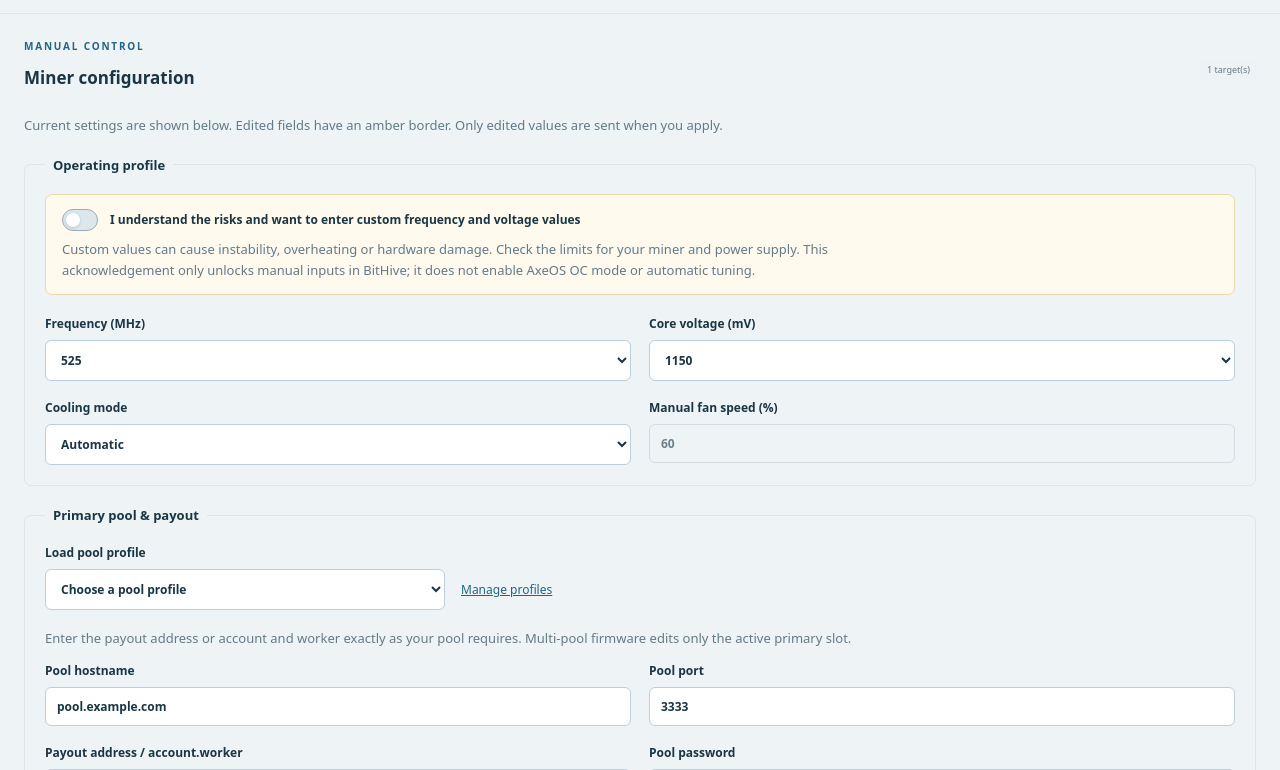
fleet interface › saves only operating fields and shows profile request errors
Select "500" in the dropdown labelled "Frequency (MHz)": (338, 361) [45, 340, 631, 381]
(page scrolled)
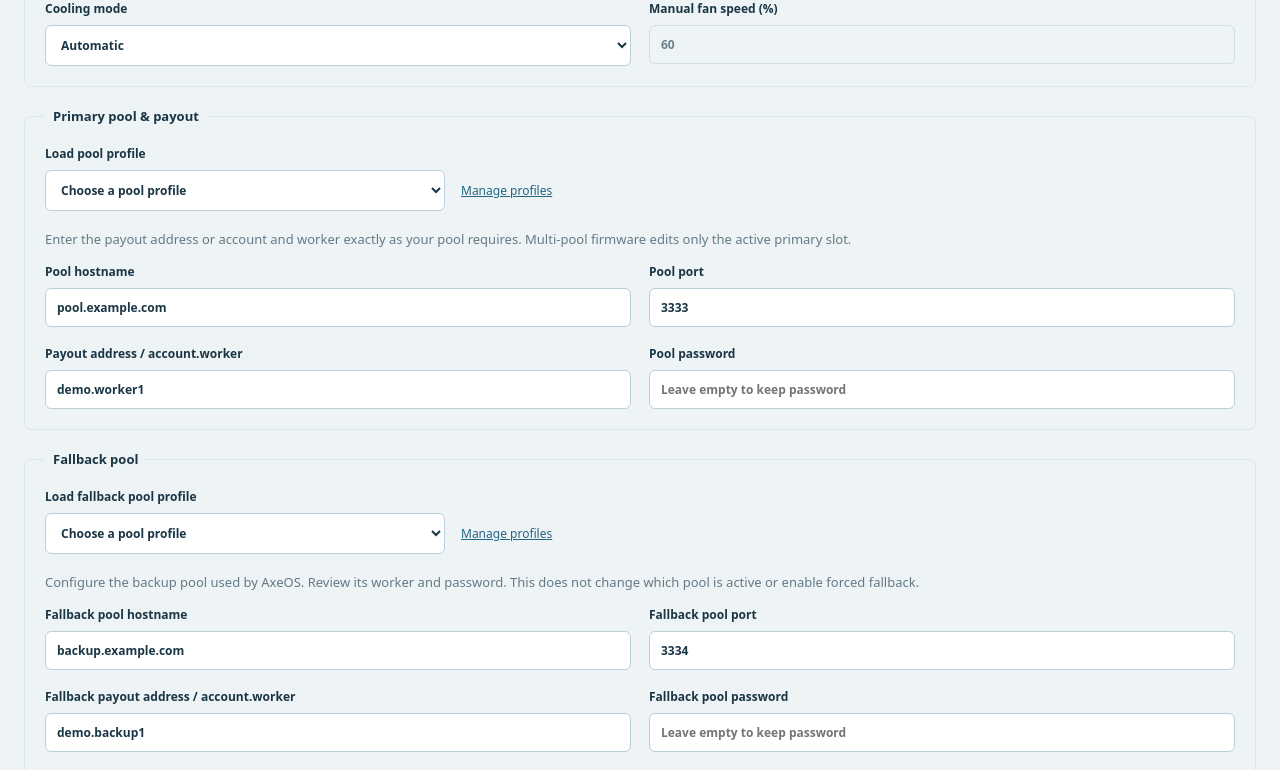
In the password field labelled "Pool password": (942, 390) [649, 370, 1235, 409], type "never-save-this"
(page scrolled)
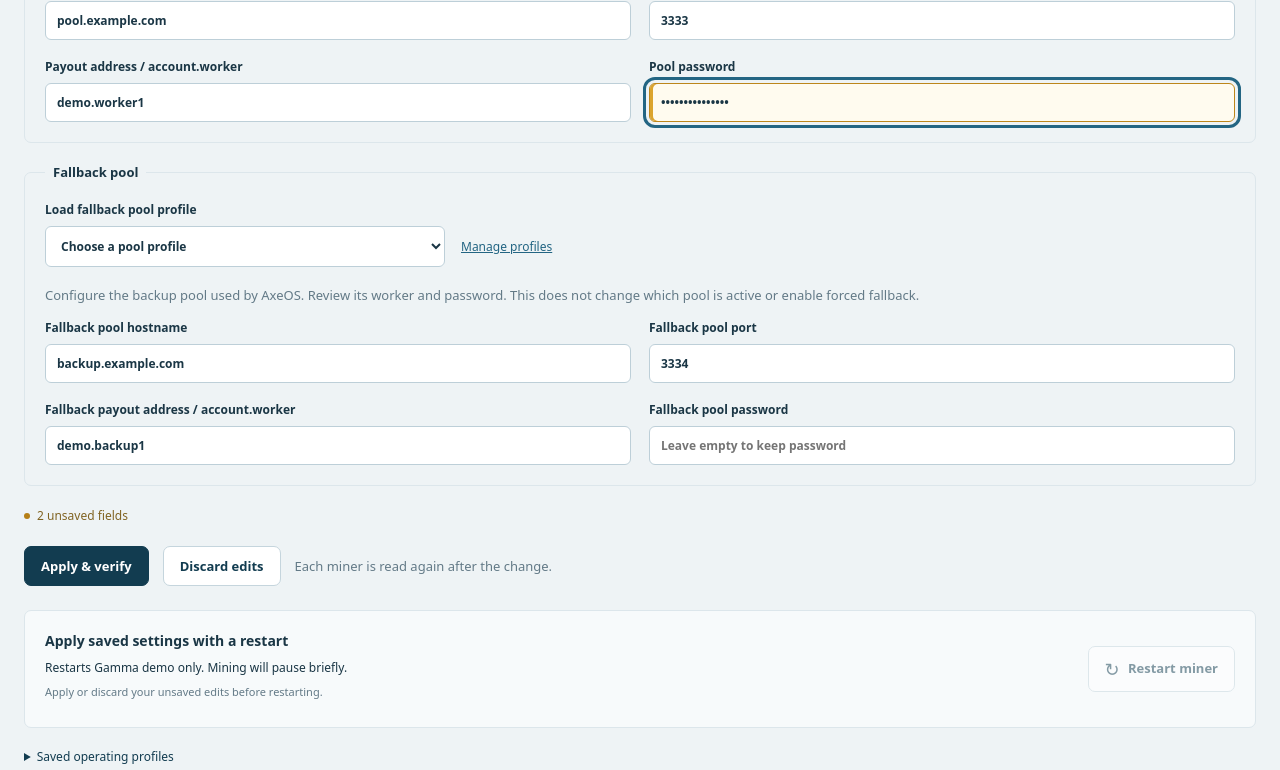
Click the heading "Saved operating profiles": (105, 756) [37, 748, 174, 765]
(page scrolled)
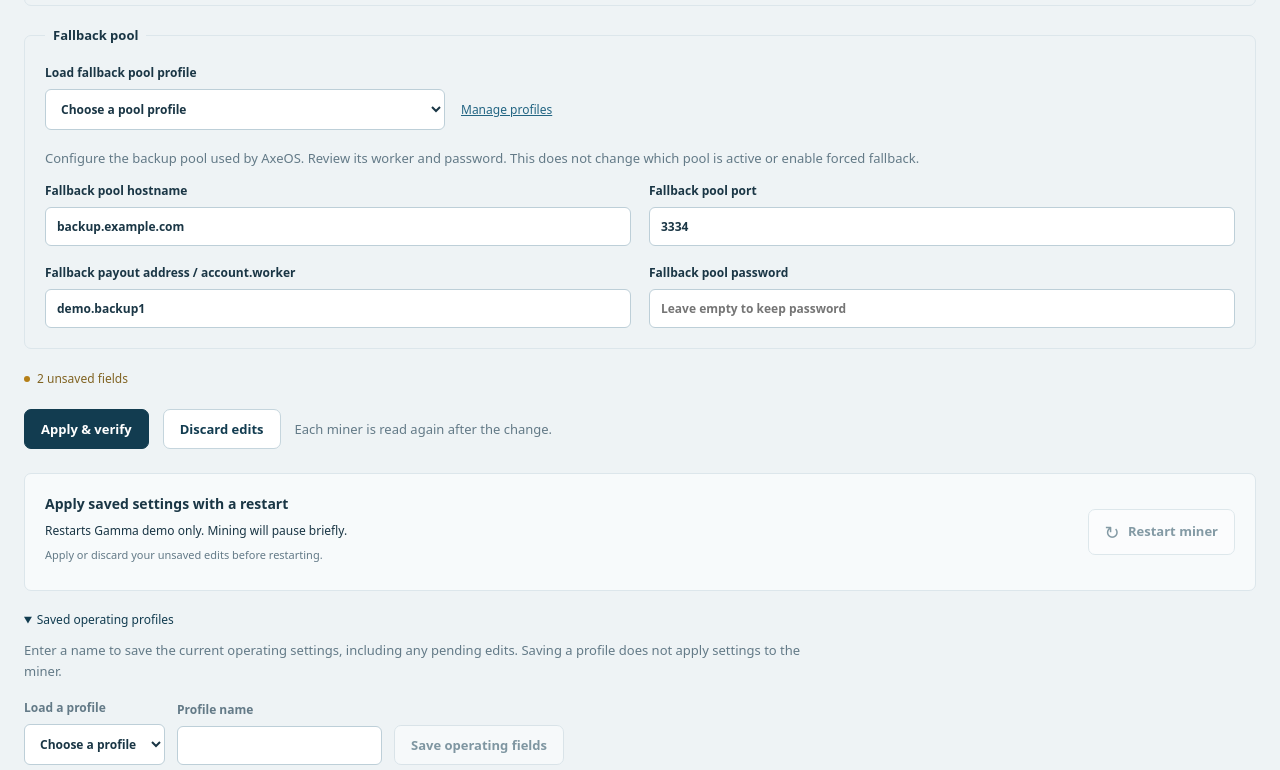
In the field labelled "Profile name": (280, 746) [177, 726, 382, 765], type "Quiet"
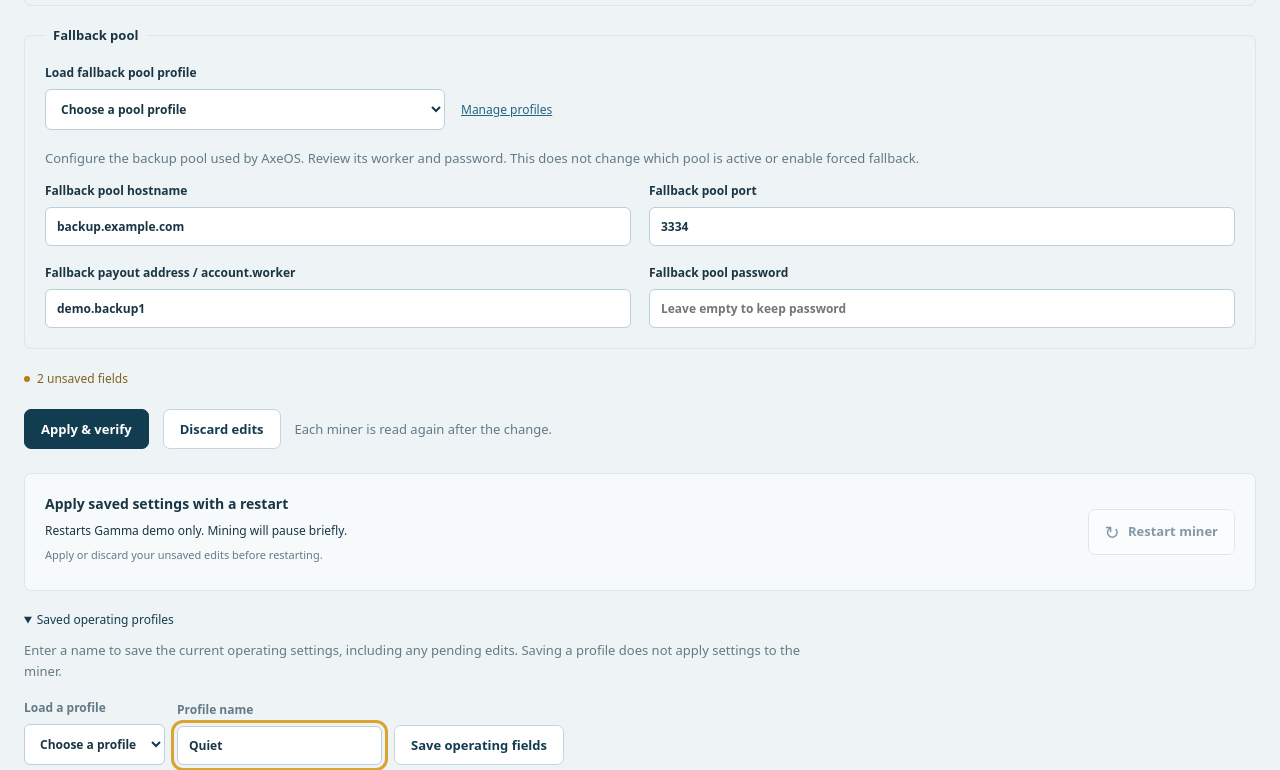
Click the button "Save operating fields": (479, 745) [394, 725, 564, 765]
(page scrolled)
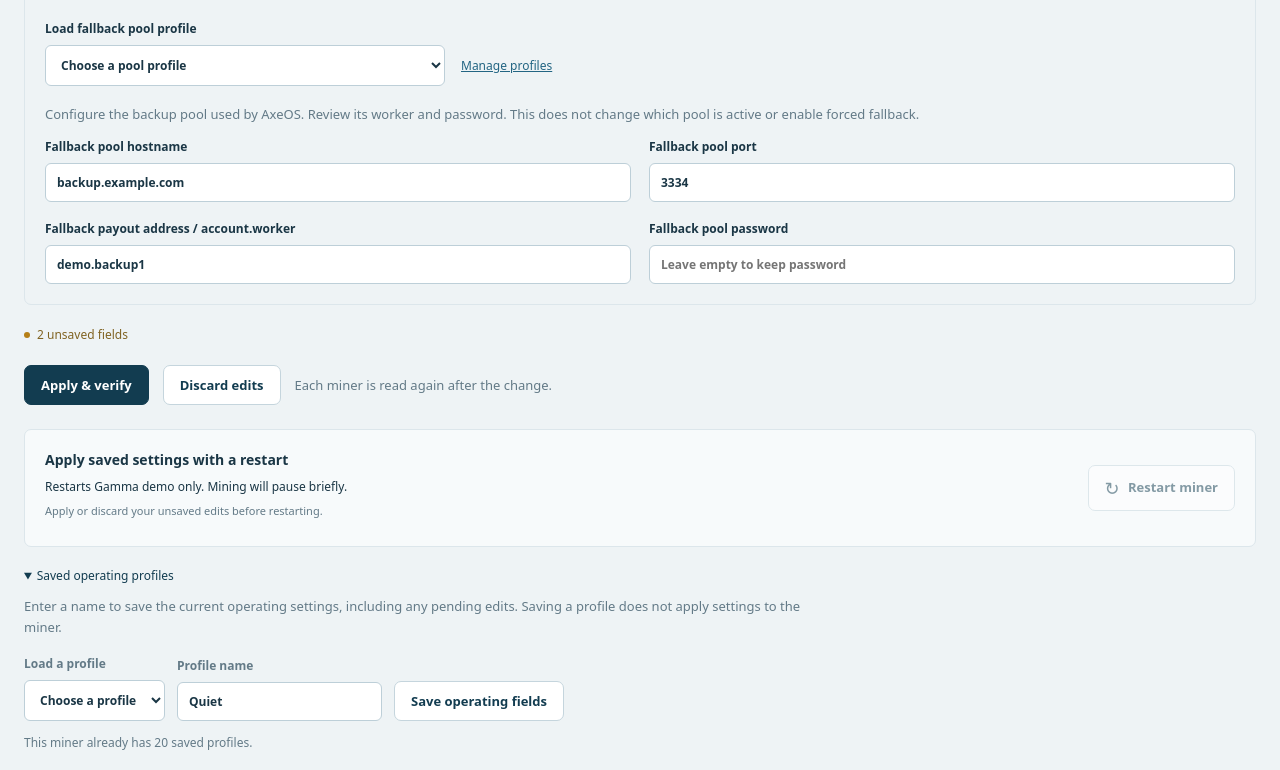
Check: the message shows "20 saved profiles", box [24, 734, 252, 751]
